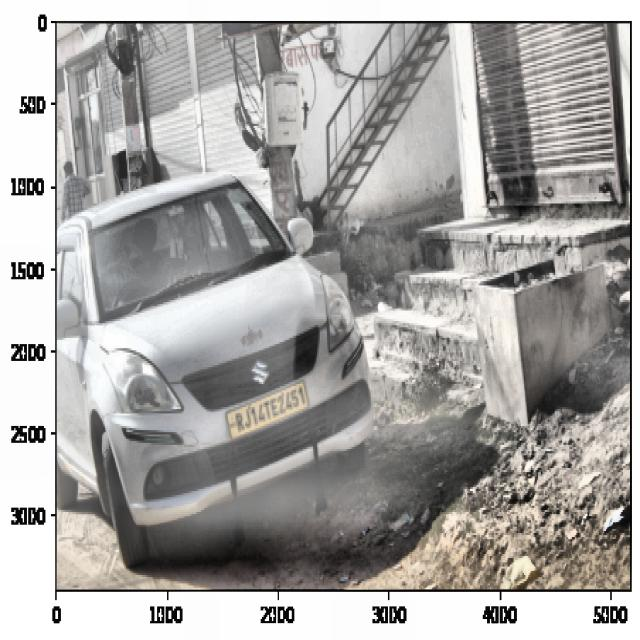license_plate: (233, 384, 308, 433)
